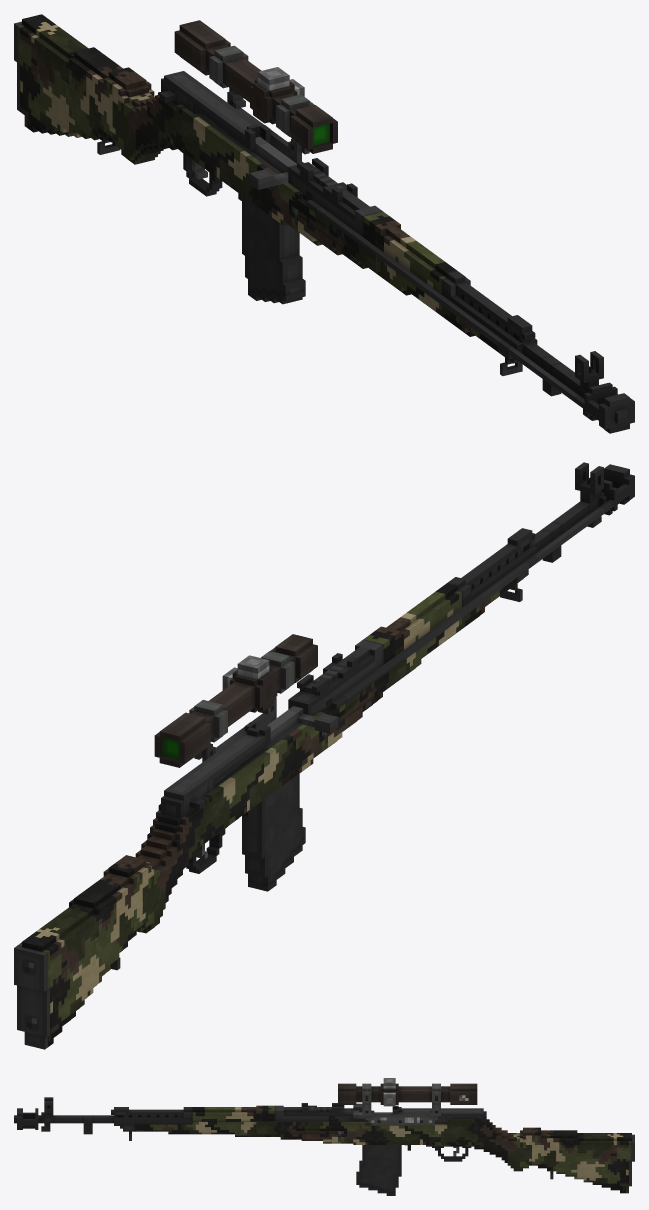
File: RD_AVS36_MILITARY1945.glb
The picture shows the model from 3 angles, top to bottom: view 1: azimuth 30°, elevation 25°; view 2: azimuth 150°, elevation 25°; view 3: azimuth 270°, elevation 25°; orthographic projection. The views are drawn at different scales.
Visible parts, largest first — view 1: AVS36, AVS36_SCOPE, AVS36_CLIP, AVS36_BOLT; view 2: AVS36, AVS36_SCOPE, AVS36_CLIP, AVS36_BOLT; view 3: AVS36, AVS36_SCOPE, AVS36_CLIP.
Part boxes in pixels (x1,y1,x2,y2): AVS36: (14, 14, 634, 433); AVS36_SCOPE: (174, 20, 337, 163); AVS36_CLIP: (242, 196, 305, 304); AVS36_BOLT: (230, 135, 296, 189); AVS36: (14, 462, 634, 1049); AVS36_SCOPE: (154, 634, 317, 767); AVS36_CLIP: (242, 774, 305, 891); AVS36_BOLT: (240, 706, 338, 764); AVS36: (14, 1097, 634, 1193); AVS36_SCOPE: (338, 1078, 477, 1125); AVS36_CLIP: (356, 1145, 401, 1195).
Bounding box in the file's own units: 0.1476 × 0.4134 × 2.02.
1 material, 1 textured.
